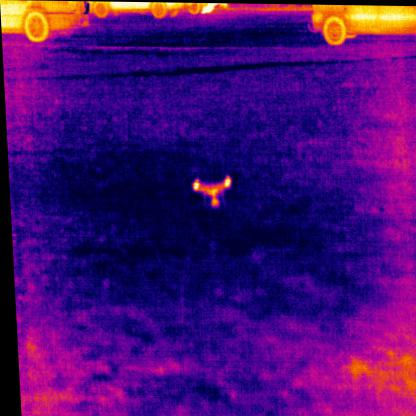drone: (188, 173, 230, 208)
